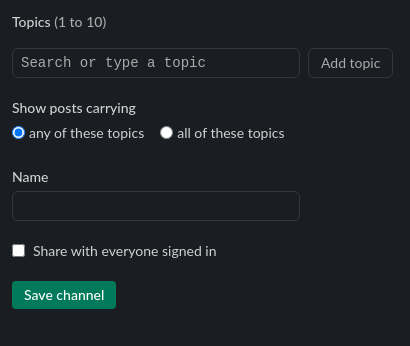
it: ChannelBuilder › should add a typed topic with the button
In the field labelled "Topics (1 to 10)": [156, 63] box [12, 48, 300, 78], type "ccd"
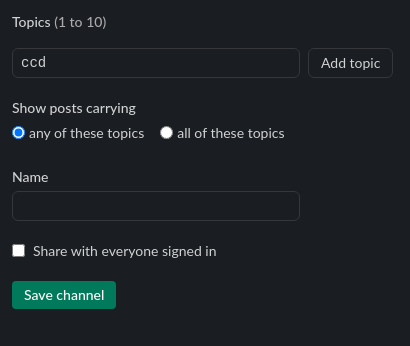
Click the button "Add topic": [351, 63] box [308, 48, 393, 78]
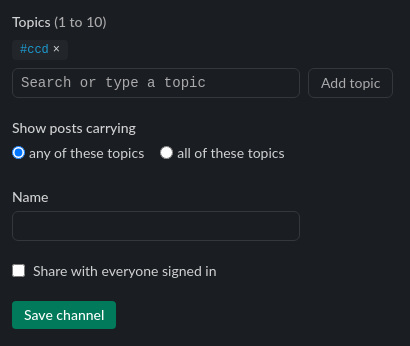
Result: the button named "Remove ccd" is shown at [53, 42, 60, 58]
